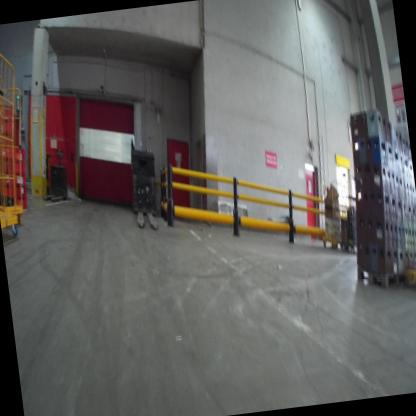pallet: (352, 258, 413, 293)
pallet_truck: (124, 140, 164, 239), (35, 136, 79, 211)
small_load_carrier: (1, 165, 34, 208), (0, 138, 30, 179)
